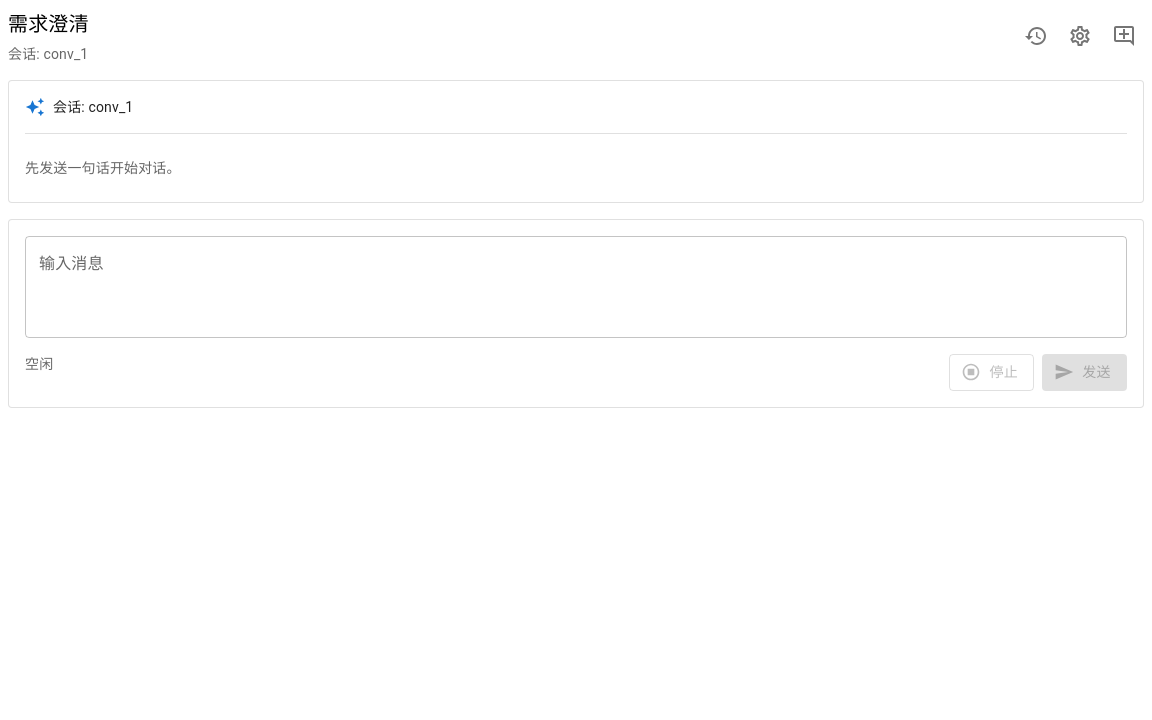
it: CubeBoxPanel › opens history dialog from header history button
Click the button named "历史记录".
click(1036, 36)  # box [1016,16,1056,56]
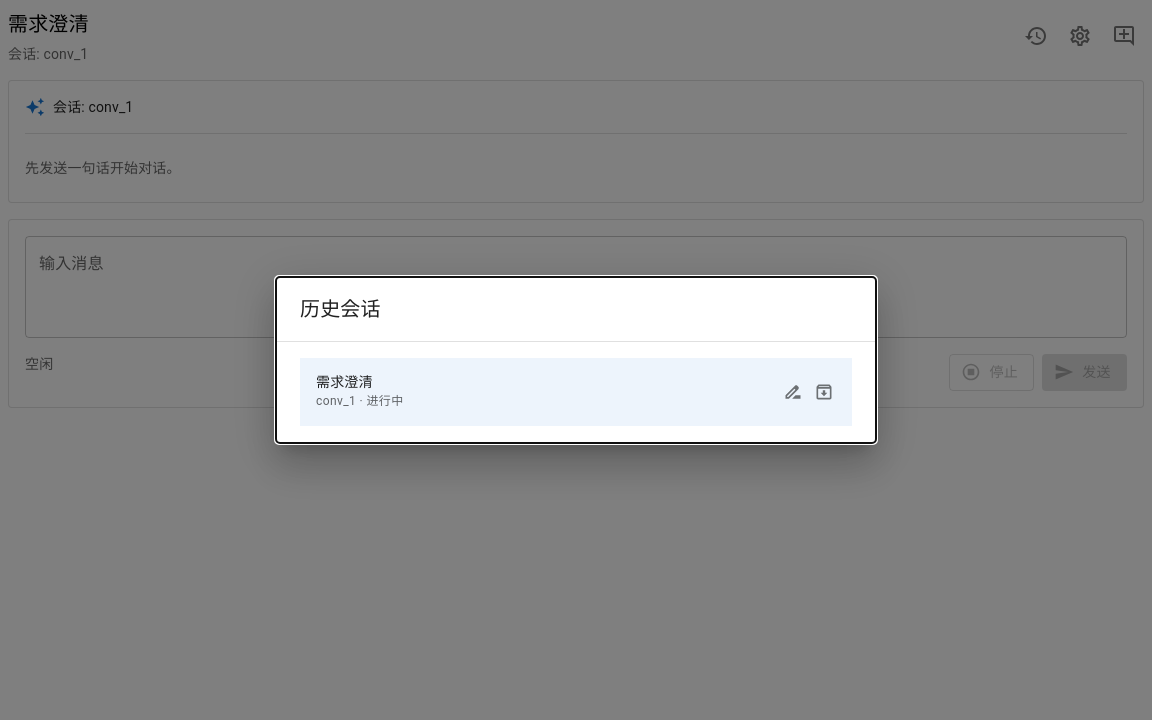
Check: the heading "需求澄清" is shown, box [8,8,89,40]
Check: the dialog is shown, box [276,277,876,443]
Check: the heading "历史会话" is shown, box [300,297,381,321]
